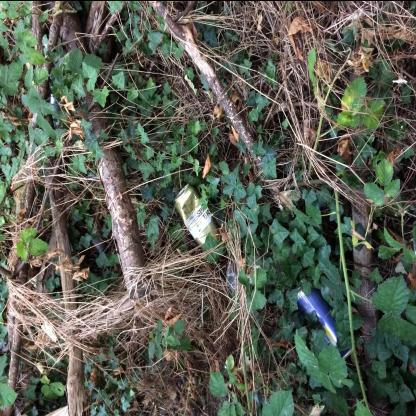metal: (299, 284, 353, 361), (176, 184, 224, 257)
